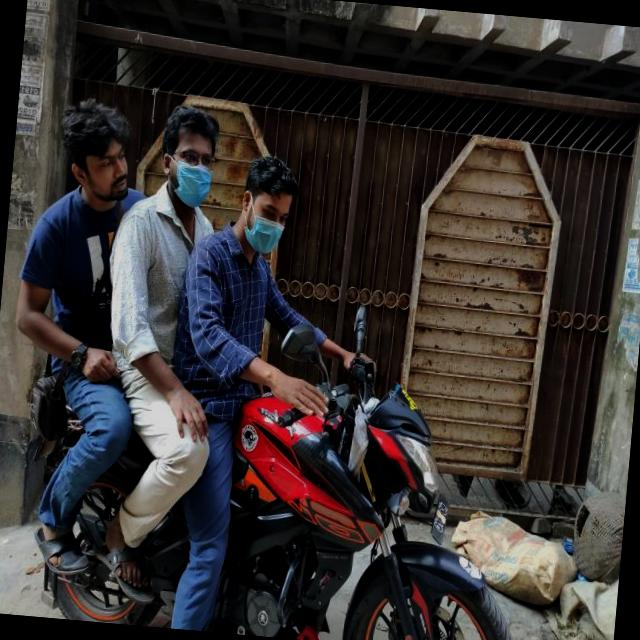motorcycle: (25, 341, 545, 640)
person: (2, 93, 140, 429), (160, 142, 302, 450), (94, 91, 223, 428)
rider_region: (0, 94, 558, 640)
